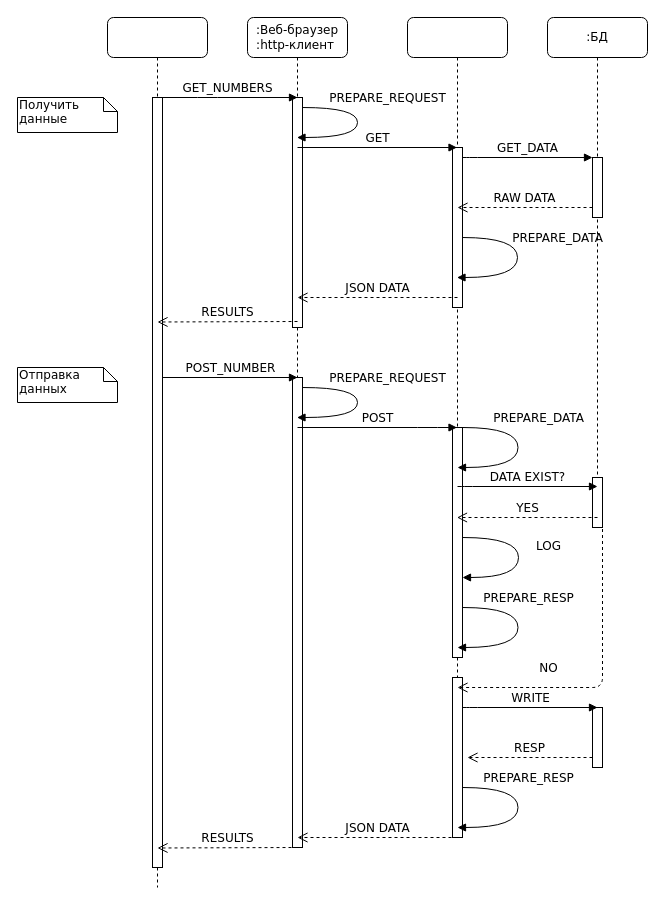
Image size: 665x905. Some labels were removed from this diagram. The shapes that lost their labels are listed below. From the top down, each one's box as (x1, y1, x2, y2) in pixels, then its label:
(406, 16, 508, 838): :веб-приложение
(106, 16, 208, 888): :Пользователь
